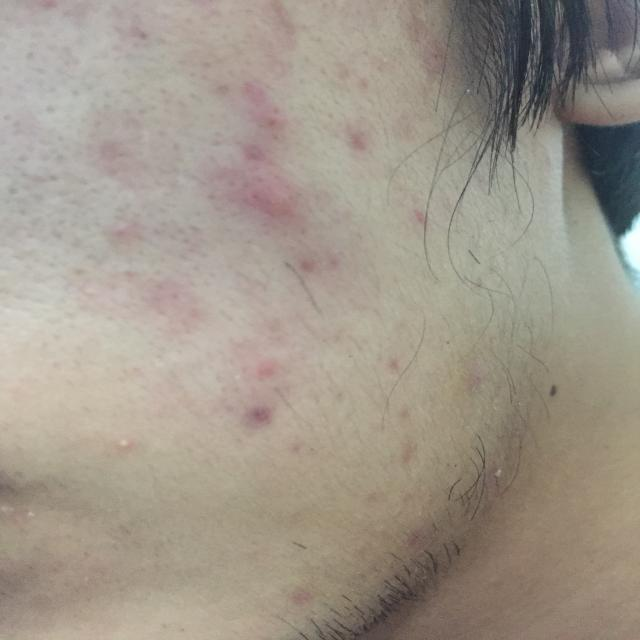Pimples: (101, 422, 153, 472)
